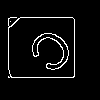C: (25, 25, 84, 83)
